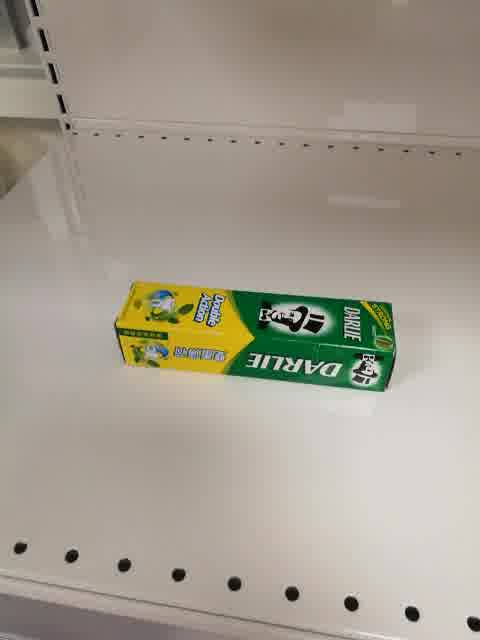toothpaste: (114, 280, 396, 393)
